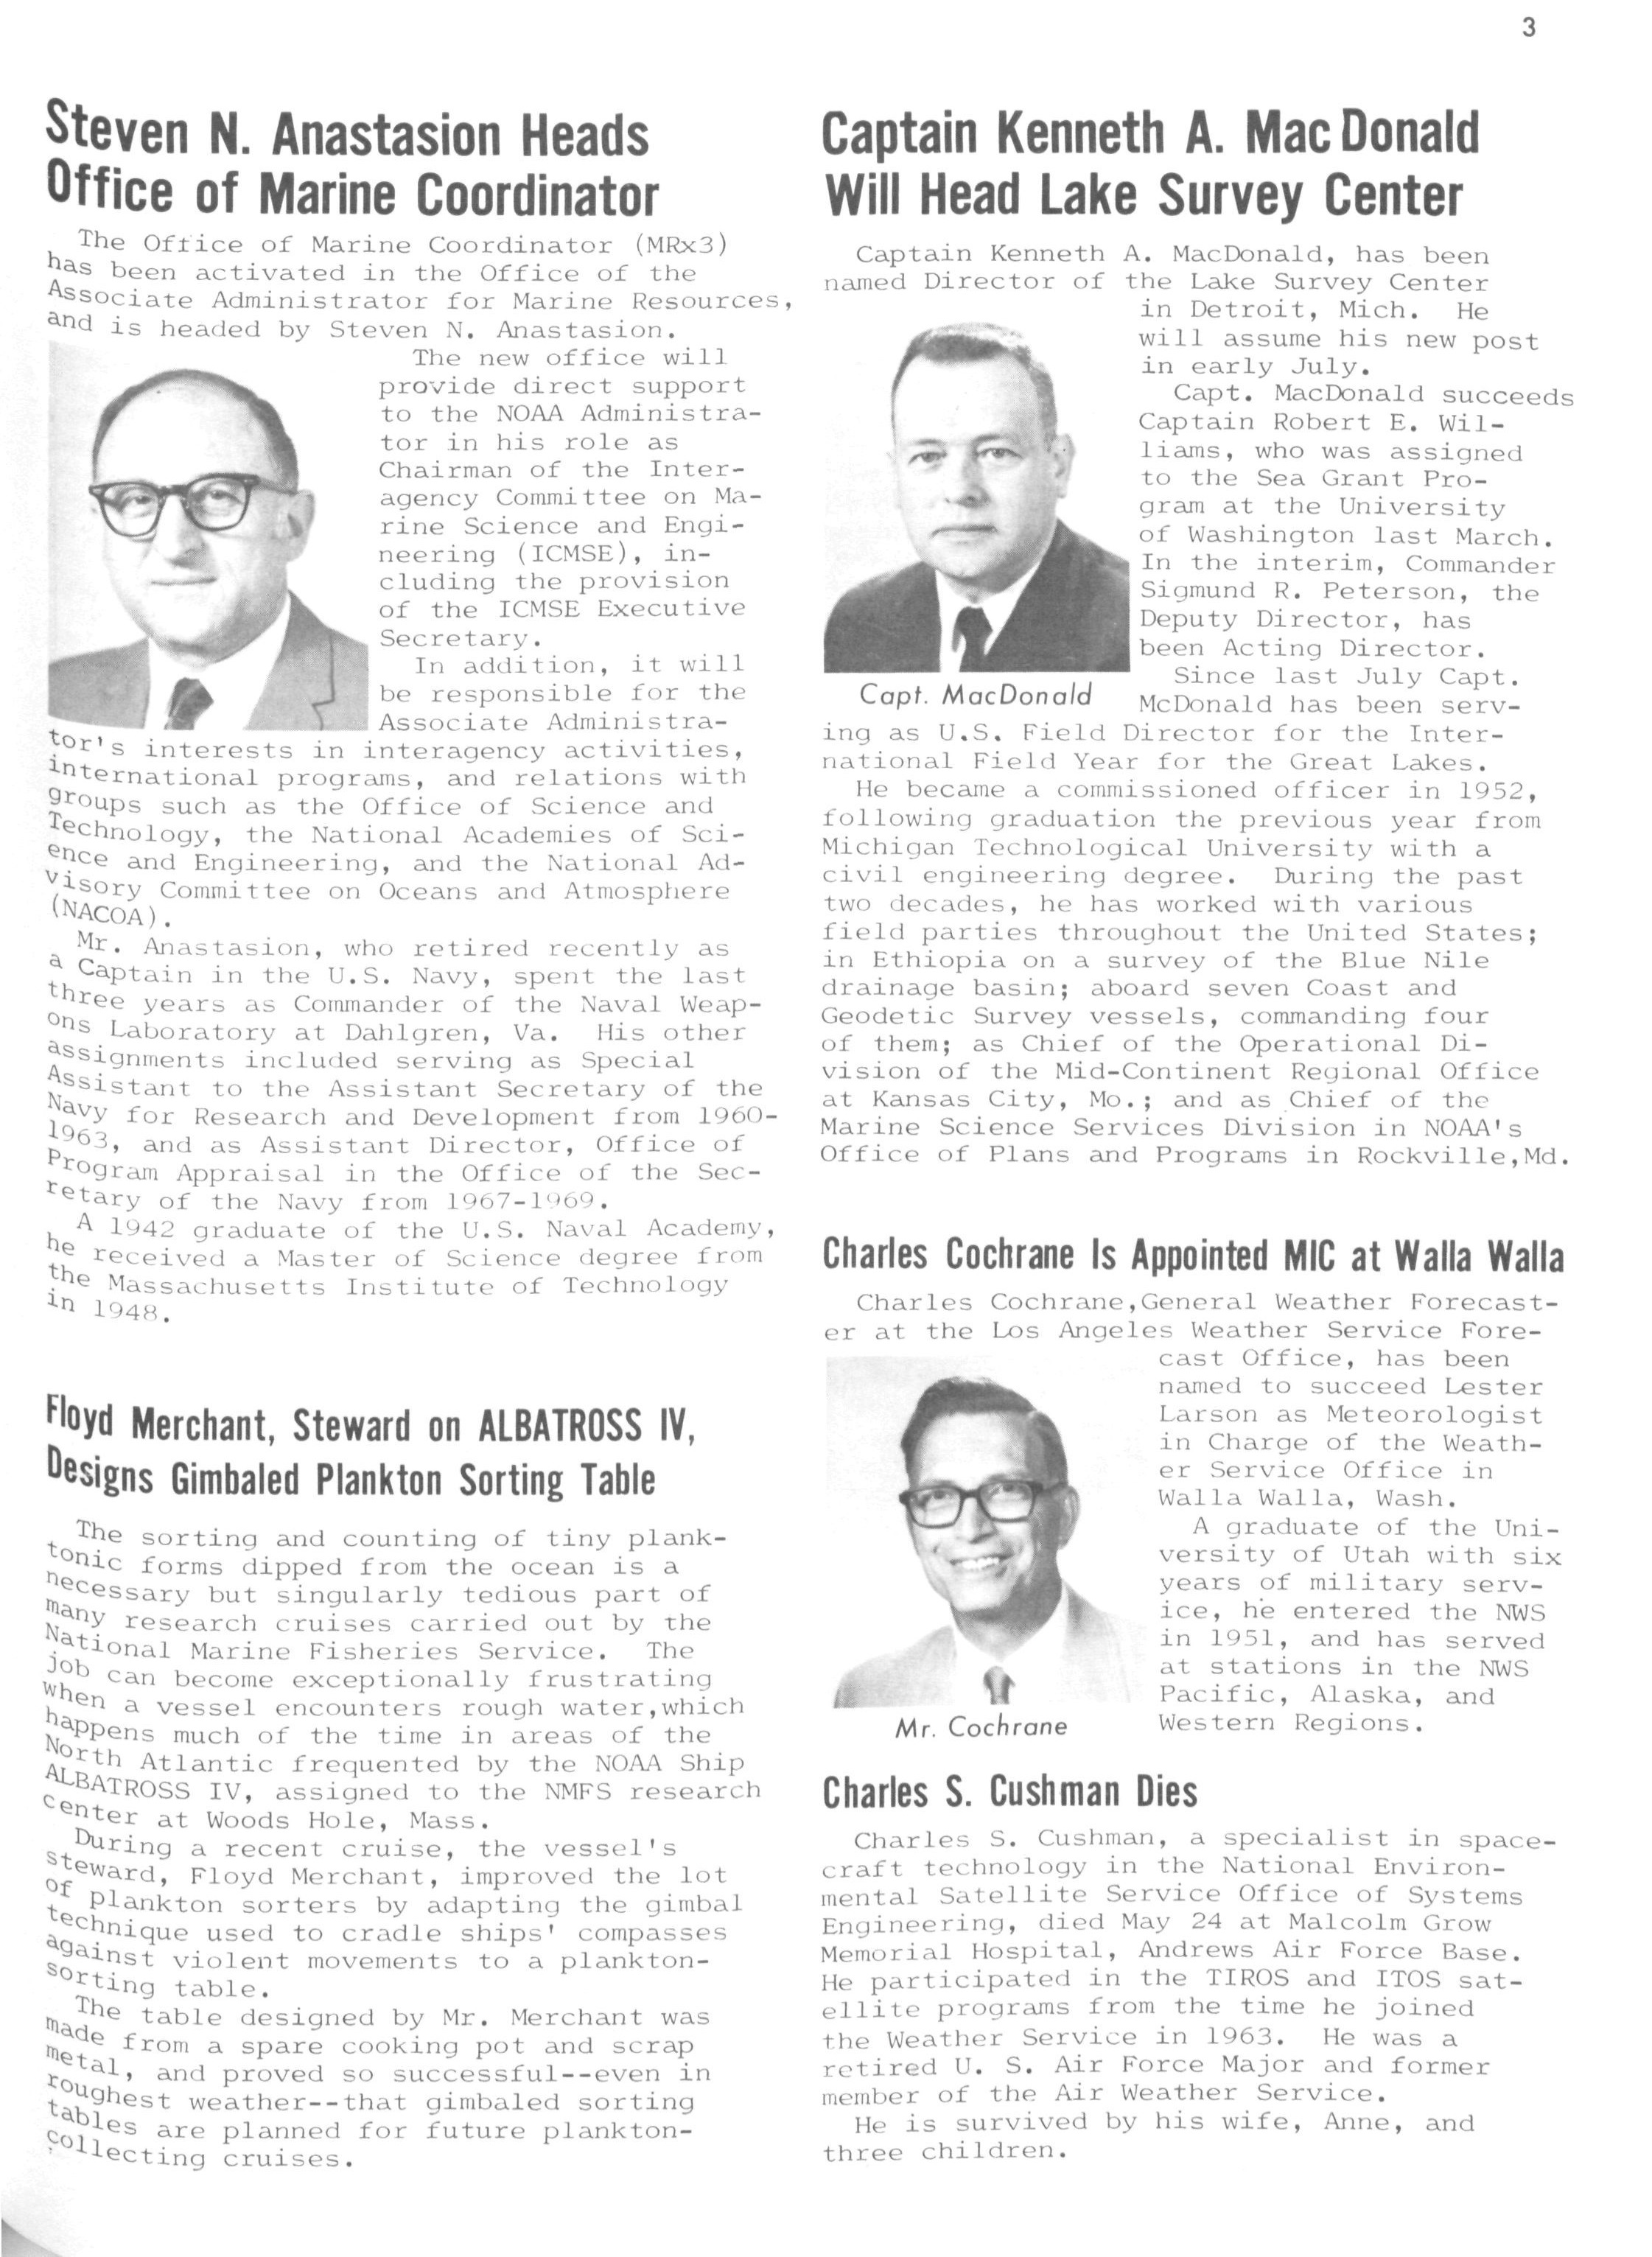figure: (53, 361, 378, 736), (822, 1365, 1151, 1710), (822, 312, 1133, 669)
section: (829, 1293, 1573, 1740), (37, 96, 657, 223), (37, 1386, 690, 1488), (822, 109, 1475, 209), (822, 1230, 1578, 1272), (825, 1770, 1193, 1817)
text: (825, 242, 1568, 1179), (825, 1829, 1550, 2164), (46, 1525, 746, 1819), (49, 636, 739, 932), (46, 941, 759, 1213), (49, 1829, 746, 1996), (380, 361, 739, 650), (42, 2005, 717, 2150), (53, 238, 752, 352), (46, 1223, 769, 1330)
